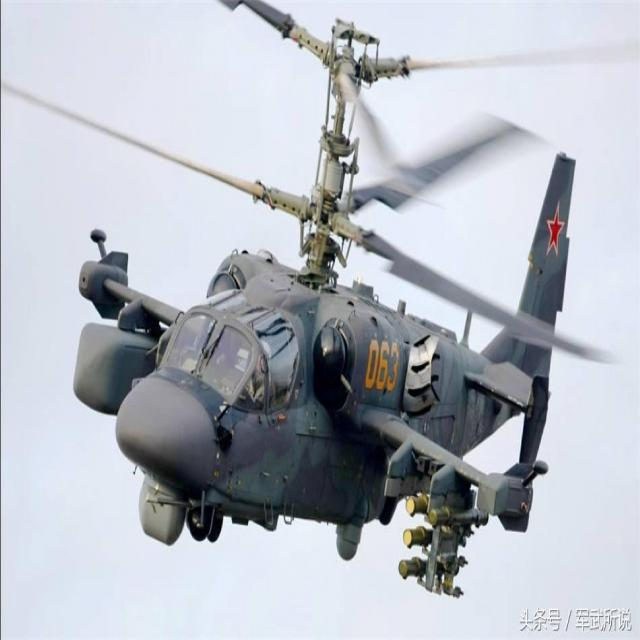MIL_HELO: (24, 0, 633, 616)
